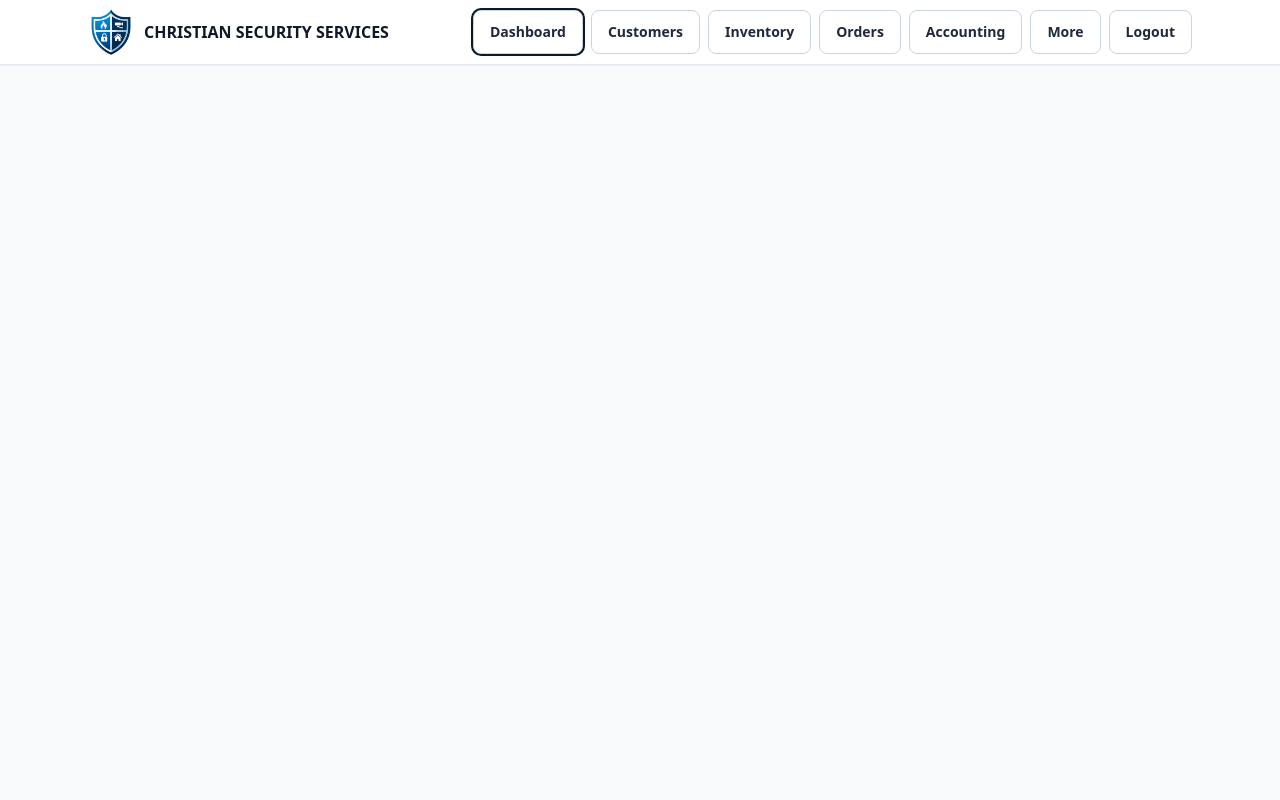
it: StaffNav › closes More when the click is outside the menu
This screenshot has width=1280, height=800.
Click the button "More": [1066, 32] box top-left (1030, 10), bottom-right (1101, 54)
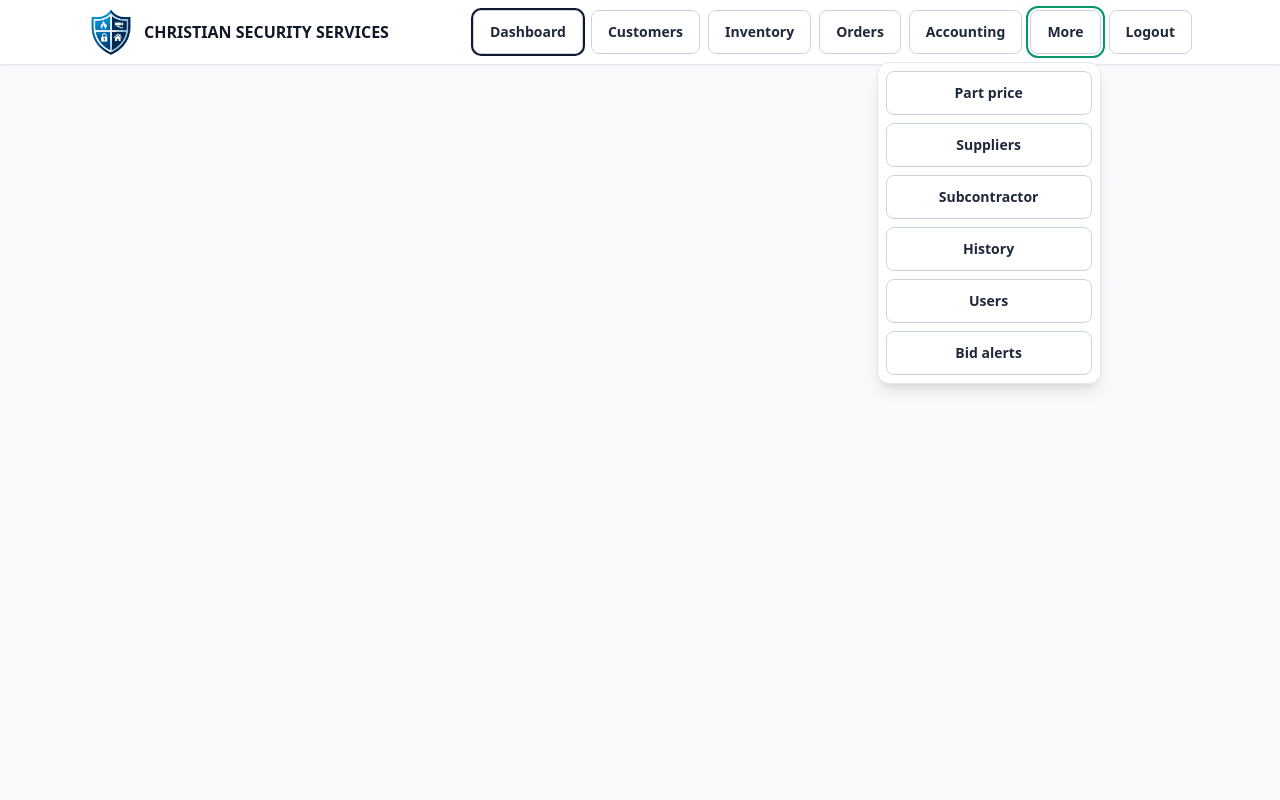
Now the link "Suppliers" is shown, box top-left (886, 123), bottom-right (1092, 167)
Press the mouse on the element that starts with "Christian Security Services": [640, 400] box top-left (0, 0), bottom-right (1279, 799)
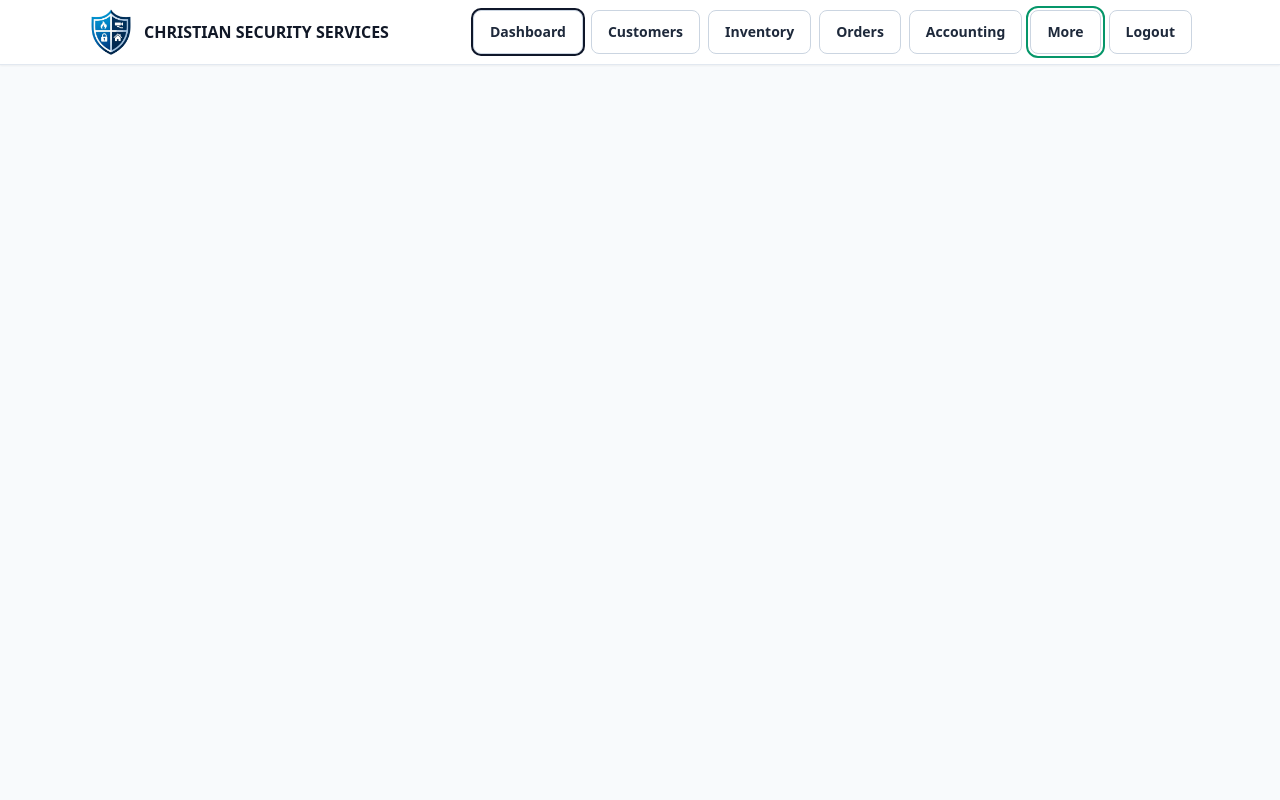
Now the link "Suppliers" is gone
